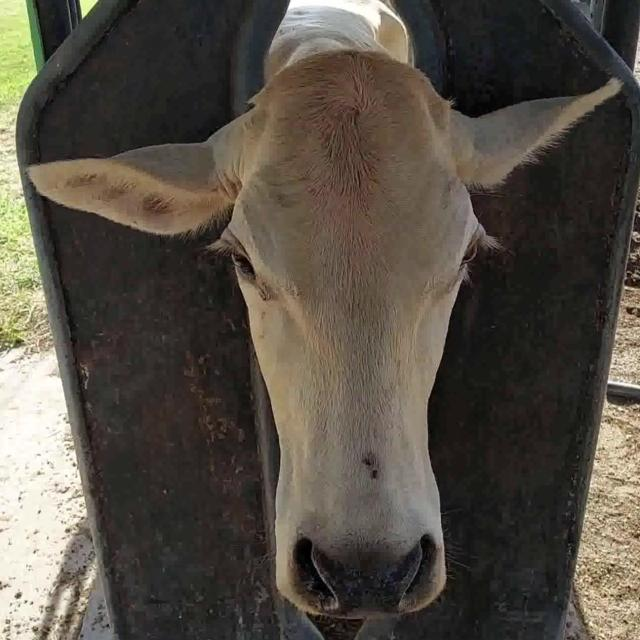cowFace: (208, 42, 459, 614)
